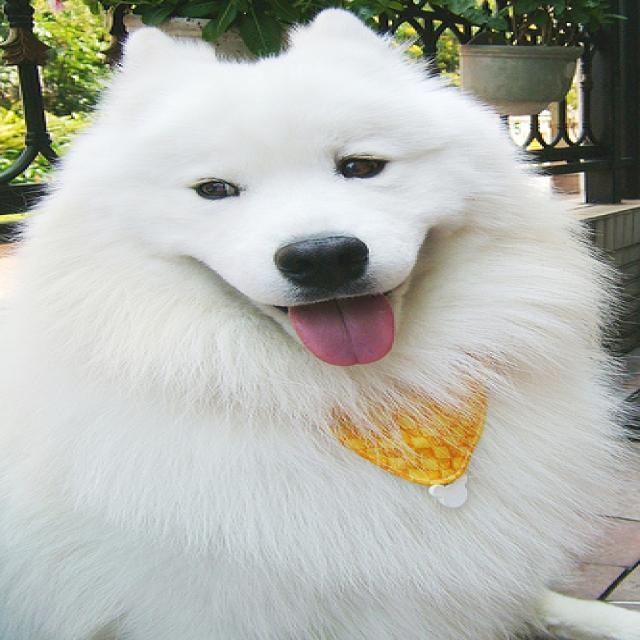dog-samoyed: (2, 8, 636, 637)
